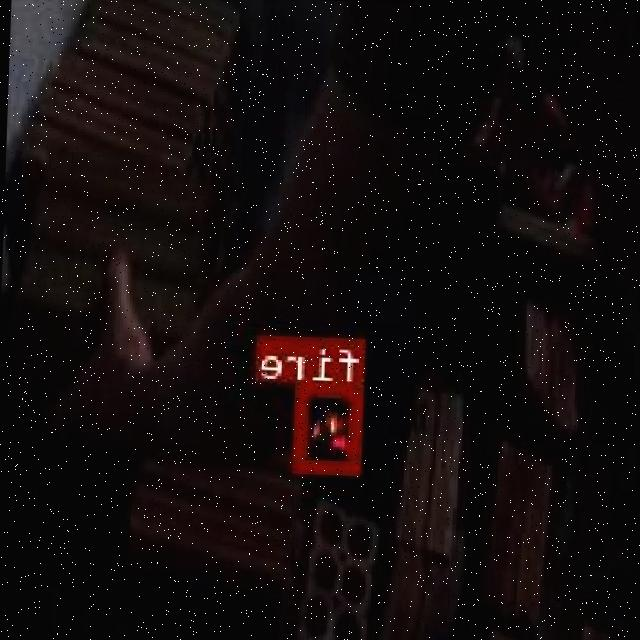fire: (297, 382, 366, 472)
